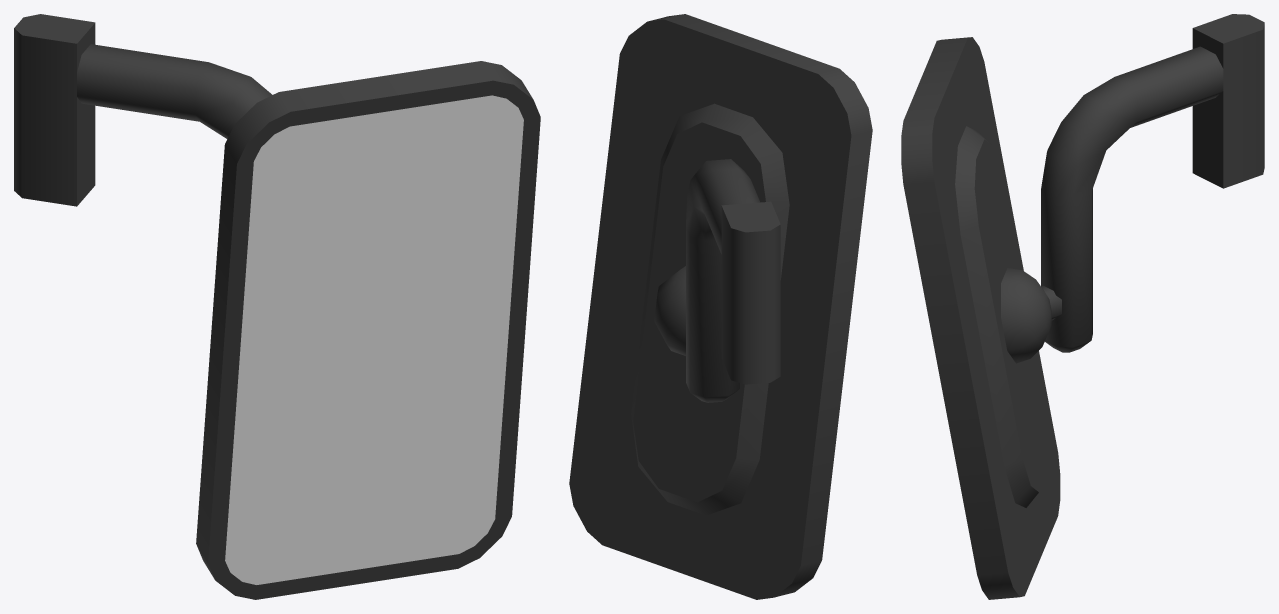
File: SideMirrorR.glb
3 renders of one model, left to right at view 1: azimuth 30°, elevation 25°; view 2: azimuth 150°, elevation 25°; view 3: azimuth 270°, elevation 25°, orthographic. The views are drawn at different scales.
Parts seen in each view (by area): view 1: サイドミラーR-本体, サイドミラーR-柱; view 2: サイドミラーR-本体, サイドミラーR-柱; view 3: サイドミラーR-本体, サイドミラーR-柱.
Part boxes in pixels (x1=…): サイドミラーR-本体: x1=196, y1=61, x2=540, y2=599; サイドミラーR-柱: x1=14, y1=14, x2=272, y2=206; サイドミラーR-本体: x1=569, y1=14, x2=872, y2=599; サイドミラーR-柱: x1=686, y1=159, x2=780, y2=402; サイドミラーR-本体: x1=901, y1=37, x2=1060, y2=599; サイドミラーR-柱: x1=1041, y1=14, x2=1264, y2=352.
Size of the model in its own units: 0.2262 by 0.3285 by 0.2271.
2 materials, 1 textured.
